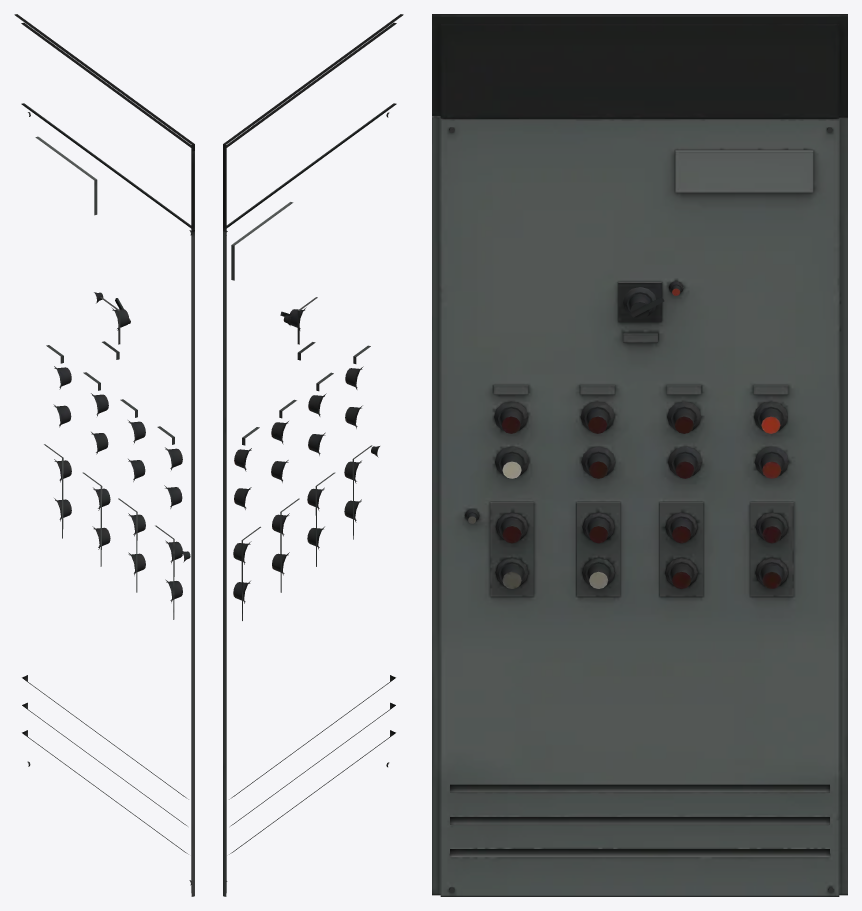
3 views of the same model, side by side, from view 1: azimuth 30°, elevation 25°; view 2: azimuth 150°, elevation 25°; view 3: azimuth 270°, elevation 25° (orthographic). The views are drawn at different scales.
Visible parts, largest first — view 1: body0_model0_lod0_mesh0; view 2: body0_model0_lod0_mesh0; view 3: body0_model0_lod0_mesh0.
Part boxes in pixels (x1=…): body0_model0_lod0_mesh0: x1=14, y1=14, x2=194, y2=896; body0_model0_lod0_mesh0: x1=223, y1=14, x2=403, y2=896; body0_model0_lod0_mesh0: x1=432, y1=14, x2=847, y2=896.
Bounding box in the file's own units: 3.79 × 112 × 47.99.
Materials: 1 (1 with a texture image).
